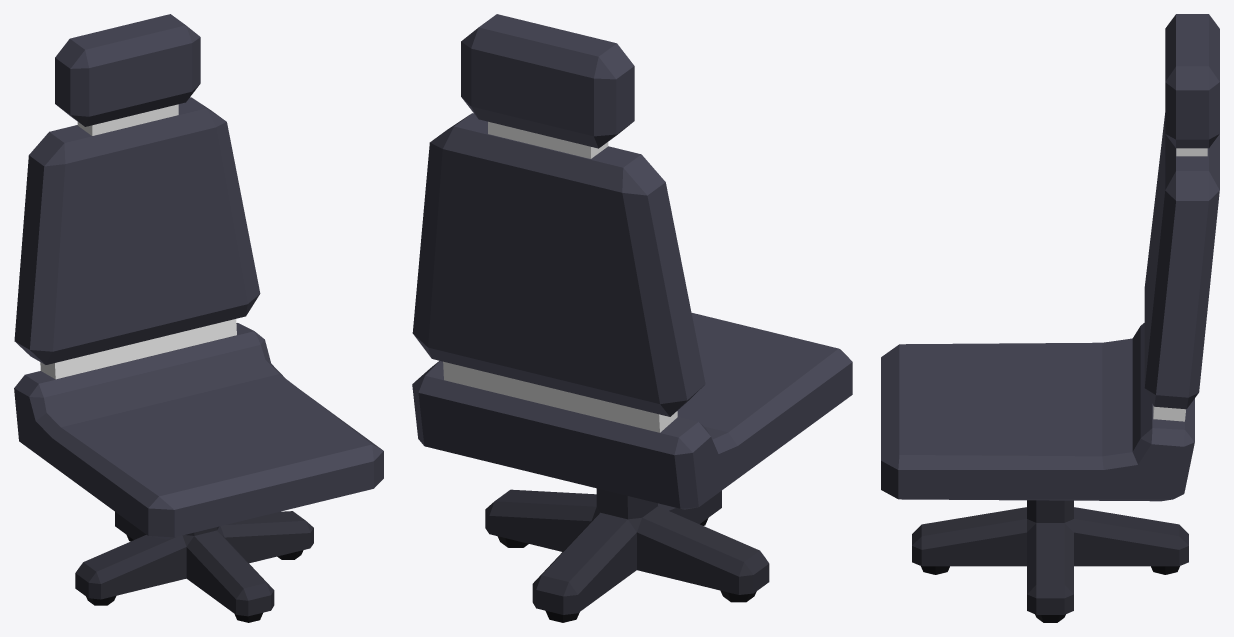
File: Computer Chair 01.fbx
3 renders of one model, left to right at view 1: azimuth 30°, elevation 25°; view 2: azimuth 150°, elevation 25°; view 3: azimuth 270°, elevation 25°, orthographic. The views are drawn at different scales.
Visible parts, largest first — view 1: Computer_Chair_01; view 2: Computer_Chair_01; view 3: Computer_Chair_01.
Part boxes in pixels (x1=…): Computer_Chair_01: x1=14, y1=14, x2=383, y2=622; Computer_Chair_01: x1=412, y1=14, x2=852, y2=622; Computer_Chair_01: x1=881, y1=14, x2=1219, y2=622.
Size of the model in its own units: 74.15 by 151 by 86.73.
